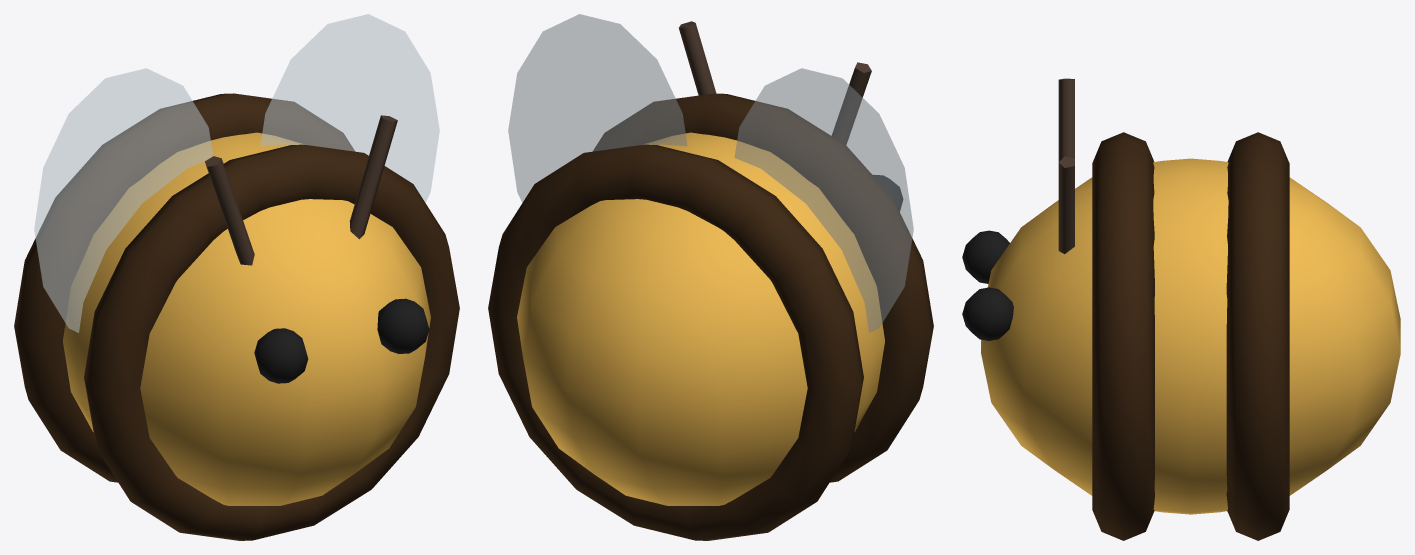
The model's file is worker-bee.glb.
The picture shows the model from 3 angles, left to right: view 1: azimuth 30°, elevation 25°; view 2: azimuth 150°, elevation 25°; view 3: azimuth 270°, elevation 25°; orthographic projection. The views are drawn at different scales.
Size of the model in its own units: 0.402 by 0.437 by 0.3912.
